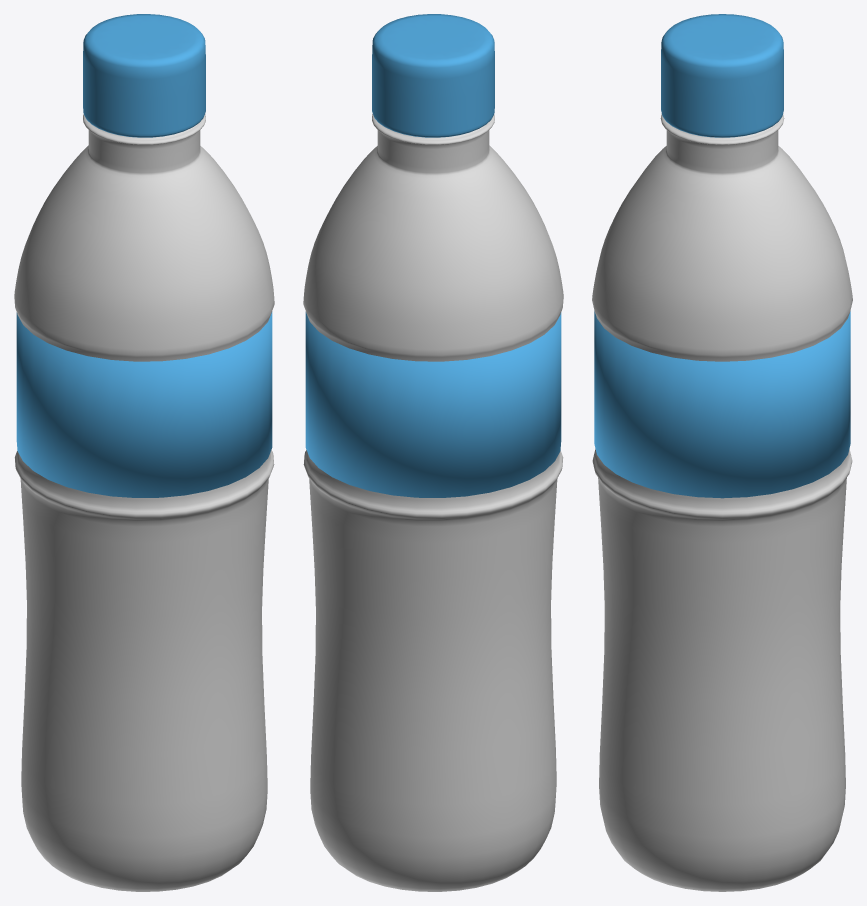
The model's file is LPlastico.fbx.
3 views of the same model, side by side, from view 1: azimuth 30°, elevation 25°; view 2: azimuth 150°, elevation 25°; view 3: azimuth 270°, elevation 25° (orthographic).
Visible parts, largest first — view 1: Cylinder.001; view 2: Cylinder.001; view 3: Cylinder.001.
Boxes of the visible parts, bbox=[...] form: Cylinder.001: bbox=[14, 14, 274, 891]; Cylinder.001: bbox=[303, 14, 563, 891]; Cylinder.001: bbox=[592, 14, 852, 891].
Size of the model in its own units: 117 by 403 by 117.
